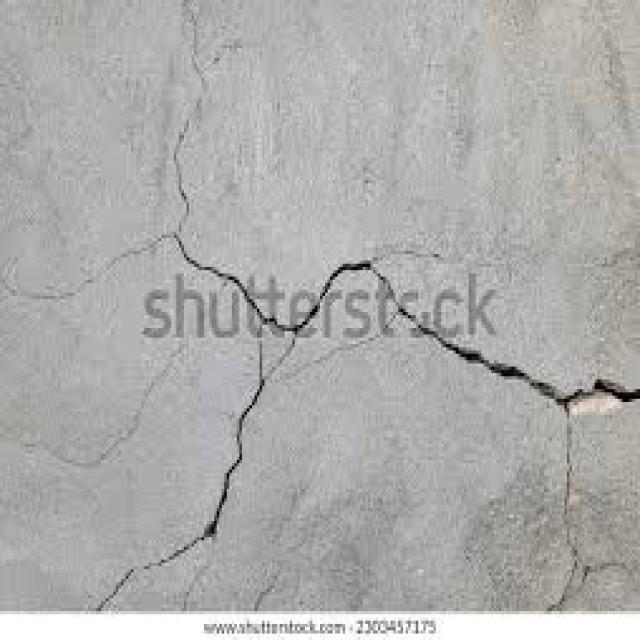crack: (144, 236, 639, 568)
